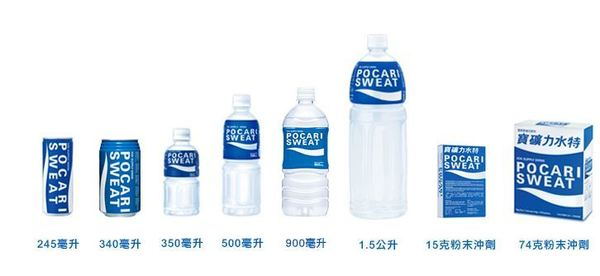POCARI SWEAT: (348, 32, 413, 222), (279, 84, 332, 219), (222, 94, 262, 221), (163, 127, 199, 219)
